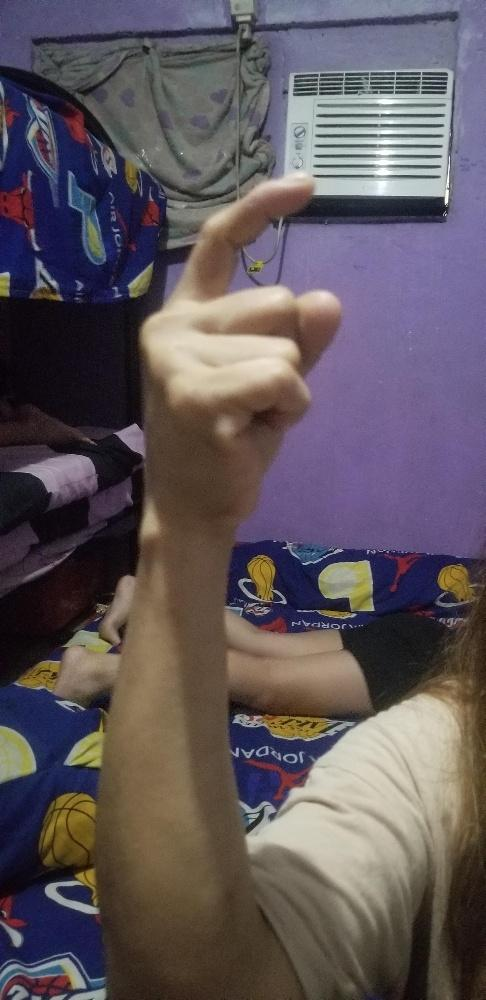x: (135, 170, 341, 529)
